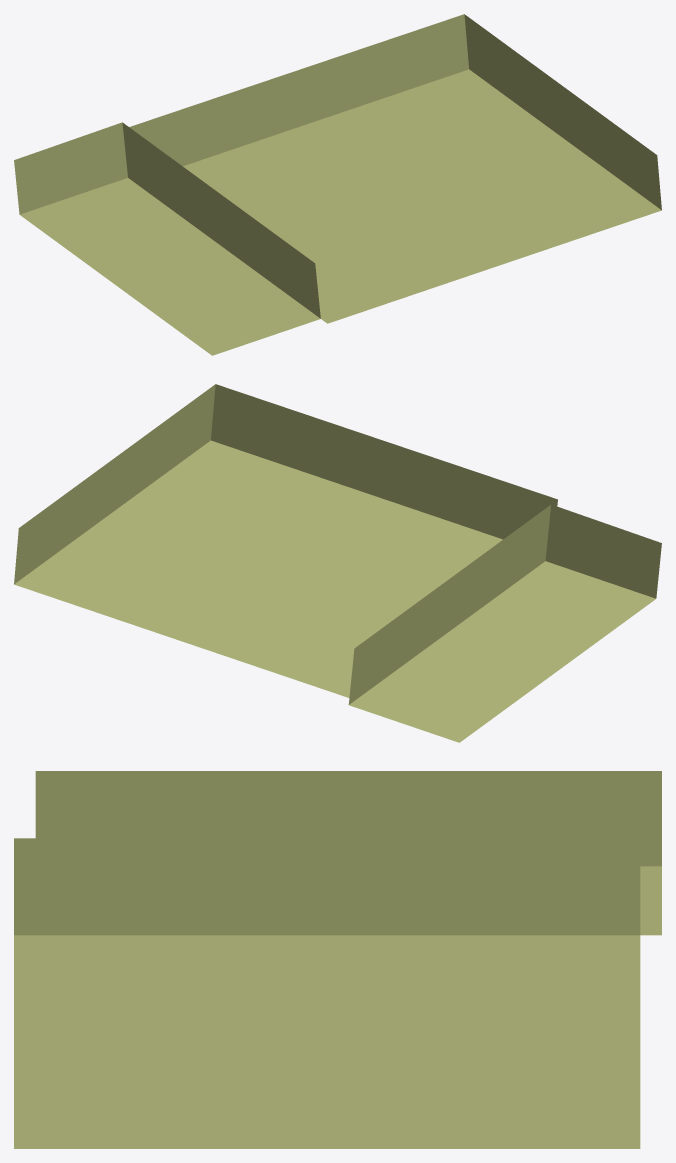
3 views of the same model, one above another, from view 1: azimuth 30°, elevation 25°; view 2: azimuth 150°, elevation 25°; view 3: azimuth 270°, elevation 25° (orthographic). The views are drawn at different scales.
Parts seen in each view (by area): view 1: 0_2_3_3_3_1_0_0_2_2_1; view 2: 0_2_3_3_3_1_0_0_2_2_1; view 3: 0_2_3_3_3_1_0_0_2_2_1.
Part boxes in pixels (bbox=[...]): 0_2_3_3_3_1_0_0_2_2_1: bbox=[14, 14, 661, 355]; 0_2_3_3_3_1_0_0_2_2_1: bbox=[14, 384, 661, 742]; 0_2_3_3_3_1_0_0_2_2_1: bbox=[14, 771, 661, 1148].
Size of the model in its own units: 12.09 by 2.54 by 9.31.
